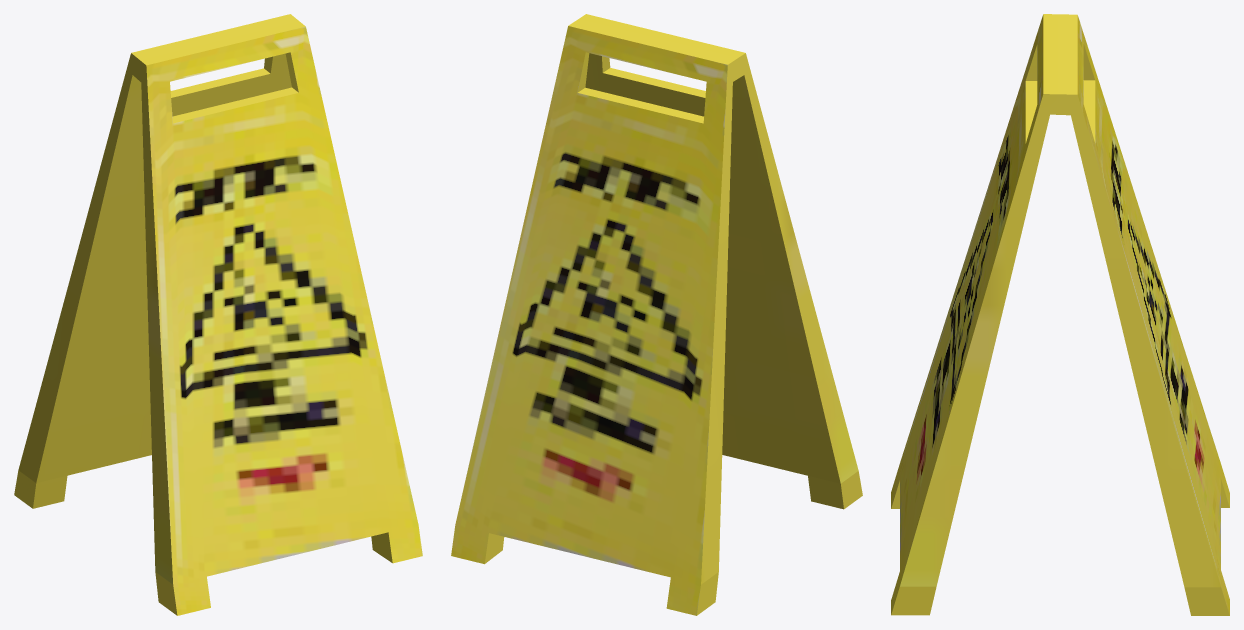
File: Señal_Piso_MojadoB.fbx
3 renders of one model, left to right at view 1: azimuth 30°, elevation 25°; view 2: azimuth 150°, elevation 25°; view 3: azimuth 270°, elevation 25°, orthographic. The views are drawn at different scales.
Parts seen in each view (by area): view 1: señal 2; view 2: señal 2; view 3: señal 2.
Part boxes in pixels (x1=…): señal 2: x1=14, y1=14, x2=422, y2=615; señal 2: x1=451, y1=14, x2=862, y2=615; señal 2: x1=891, y1=14, x2=1229, y2=615.
Bounding box in the file's own units: 201 × 378 × 232.
1 material, 1 textured.
